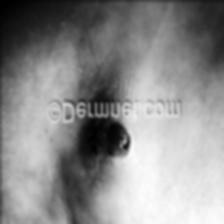Toxin: (84, 119, 148, 170)
